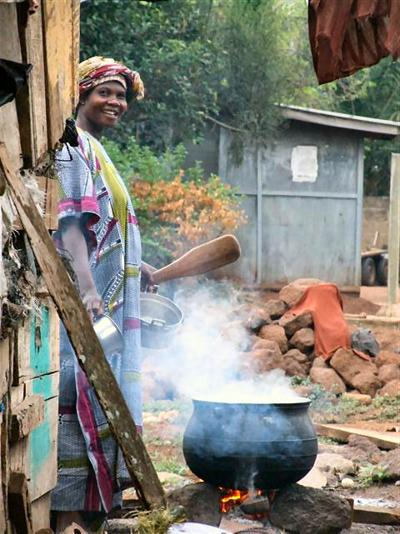person: (52, 56, 148, 518)
